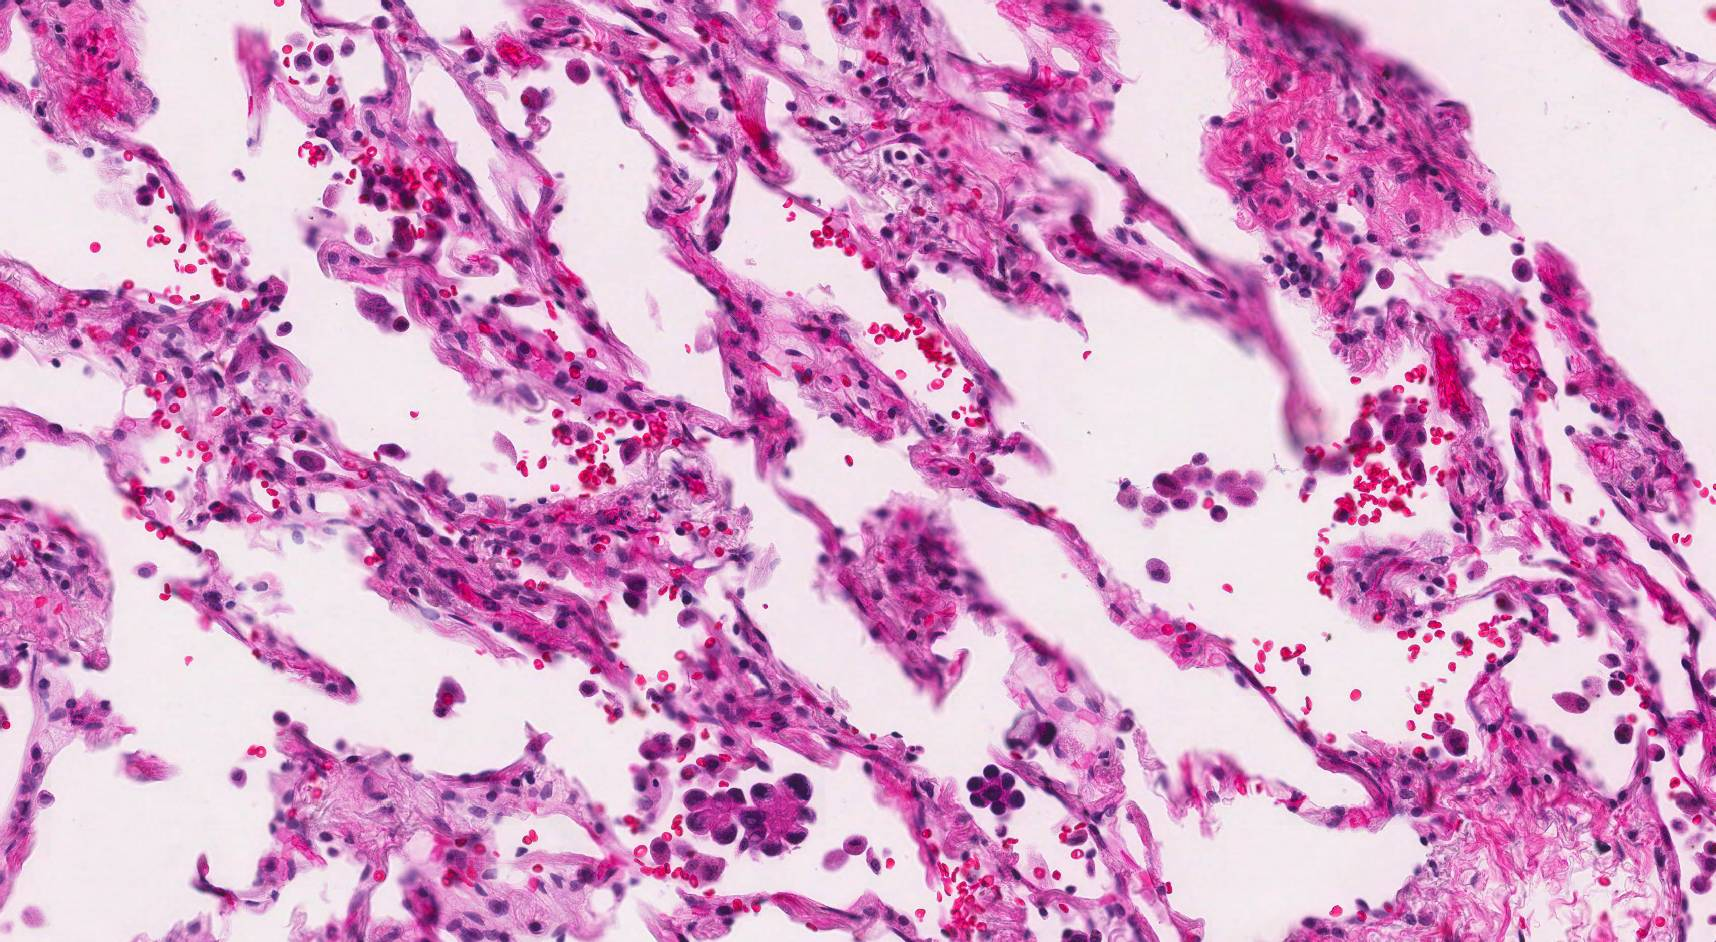stas: (680, 772, 818, 859), (966, 762, 1027, 817)
